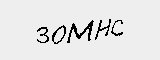З: (37, 24, 51, 44)
М: (69, 20, 96, 46)
Н: (97, 15, 112, 42)
О: (50, 24, 68, 45)
С: (110, 17, 125, 39)
